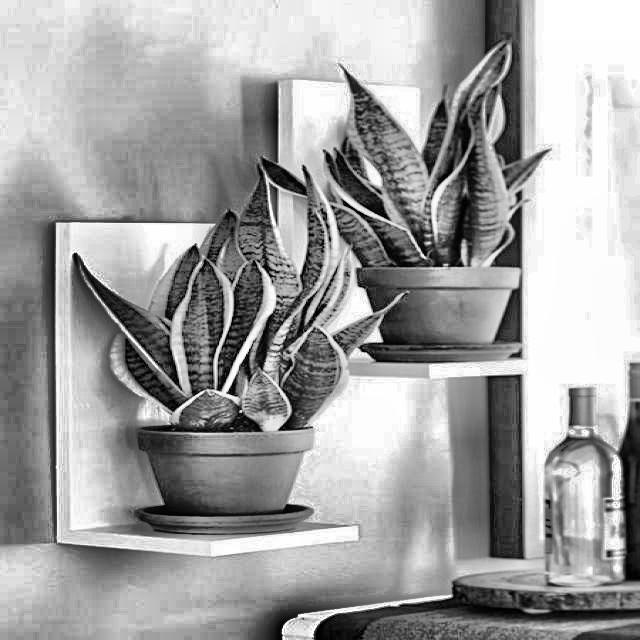plants: (70, 174, 413, 436), (258, 35, 584, 268)
